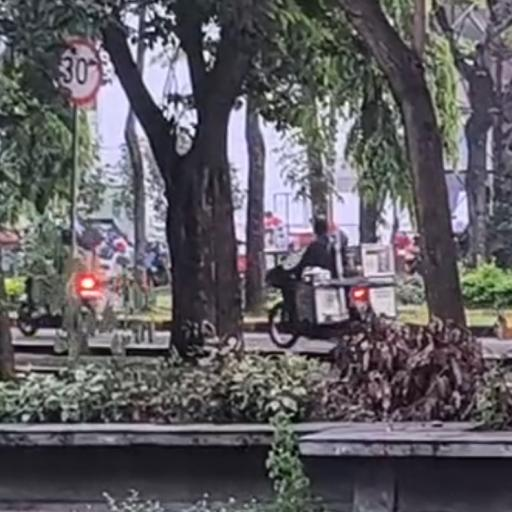Helmet: (309, 214, 331, 237)
Motor: (263, 259, 398, 349)
